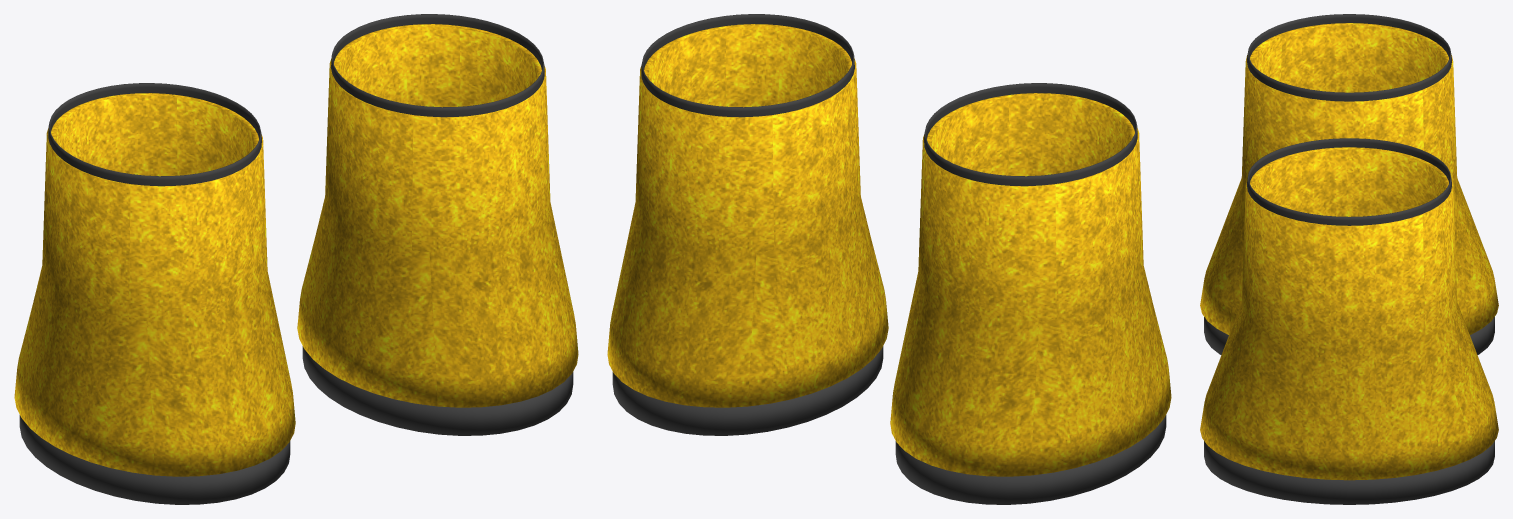
Rendered from rainboots3.fbx.
3 views of the same model, side by side, from view 1: azimuth 30°, elevation 25°; view 2: azimuth 150°, elevation 25°; view 3: azimuth 270°, elevation 25° (orthographic). The views are drawn at different scales.
Visible parts, largest first — view 1: rainboots3; view 2: rainboots3; view 3: rainboots3.
Boxes of the visible parts, bbox=[...] form: rainboots3: bbox=[14, 14, 578, 504]; rainboots3: bbox=[607, 14, 1171, 504]; rainboots3: bbox=[1200, 14, 1498, 504].
Size of the model in its own units: 0.638 by 0.3714 by 0.3598.
2 materials, 1 textured.
